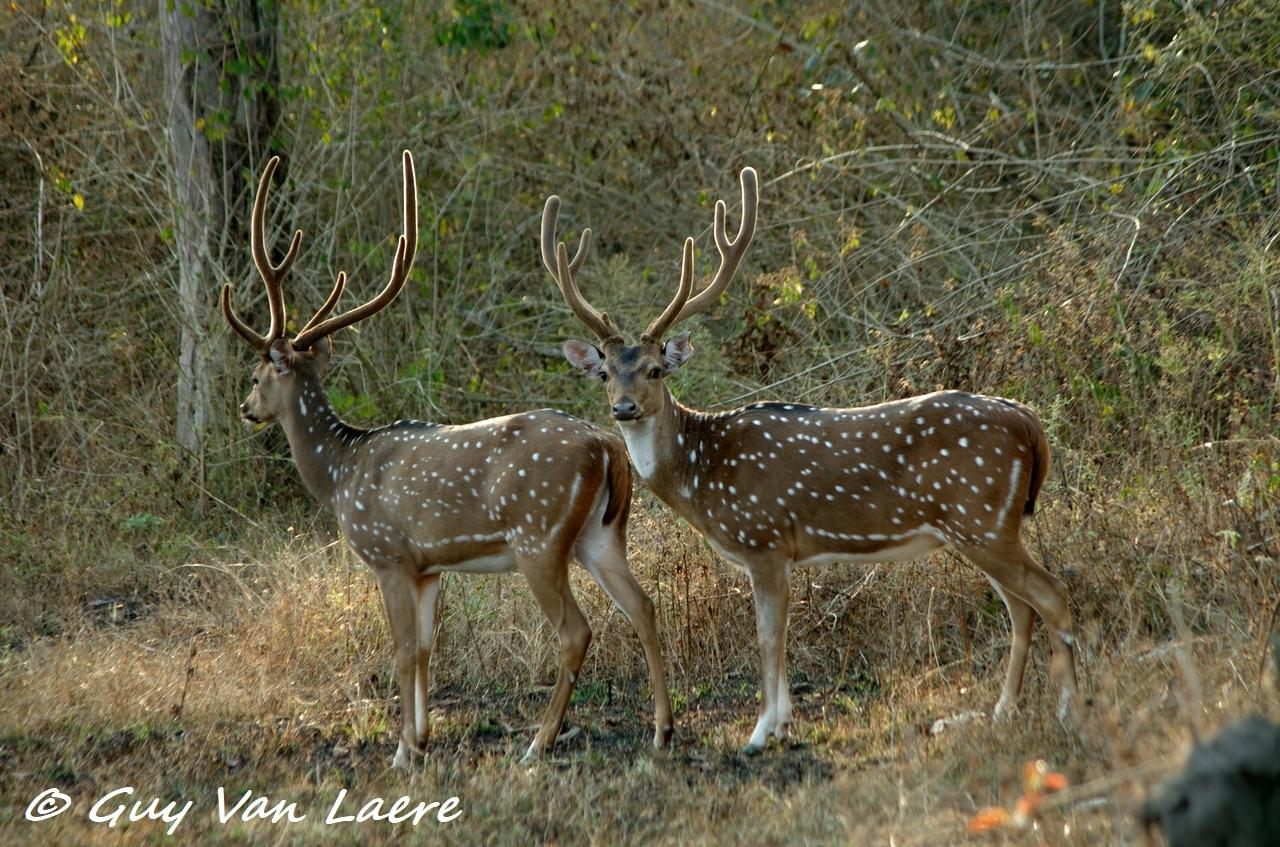Deer: (541, 167, 1077, 752), (221, 151, 673, 766)
